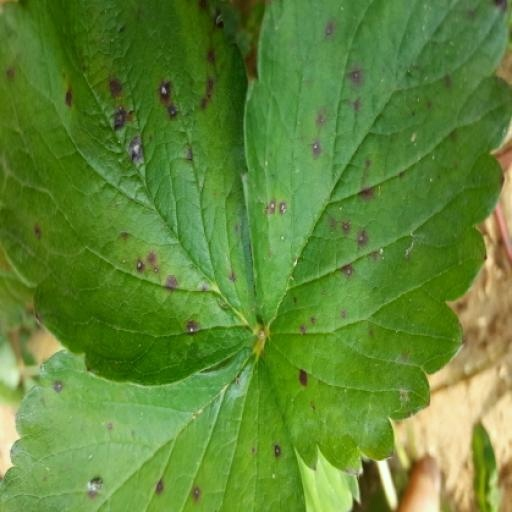Leaf Spot: (240, 35, 511, 511), (0, 125, 260, 511)
